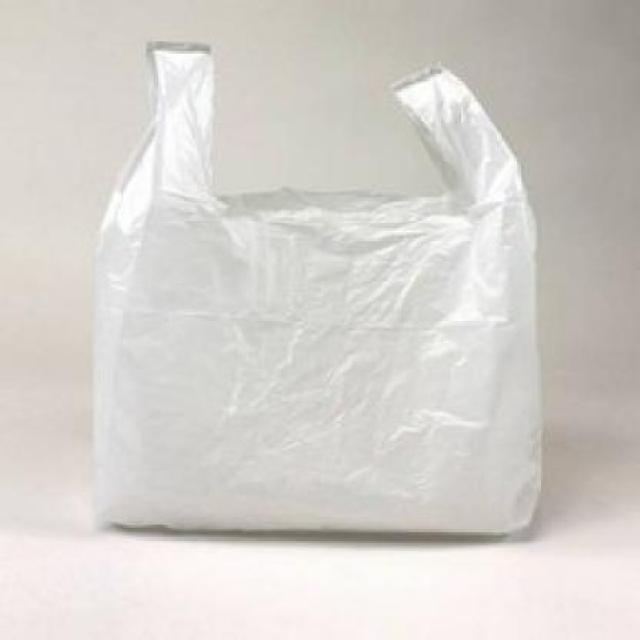plastic bag: (86, 28, 559, 553)
